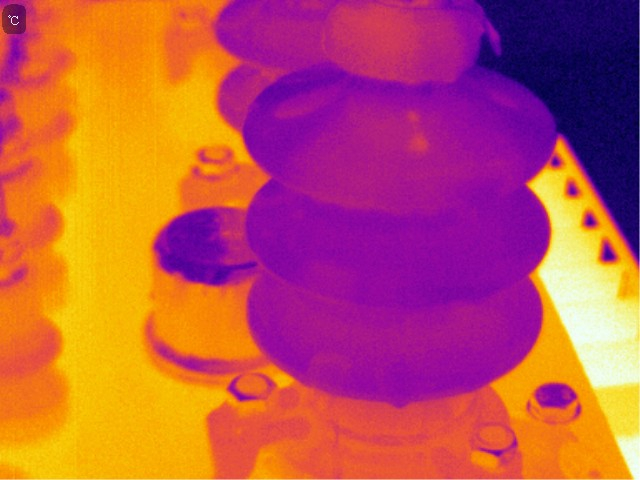Oil: (332, 95, 486, 200), (329, 1, 472, 86), (473, 2, 504, 58), (278, 93, 325, 118)
